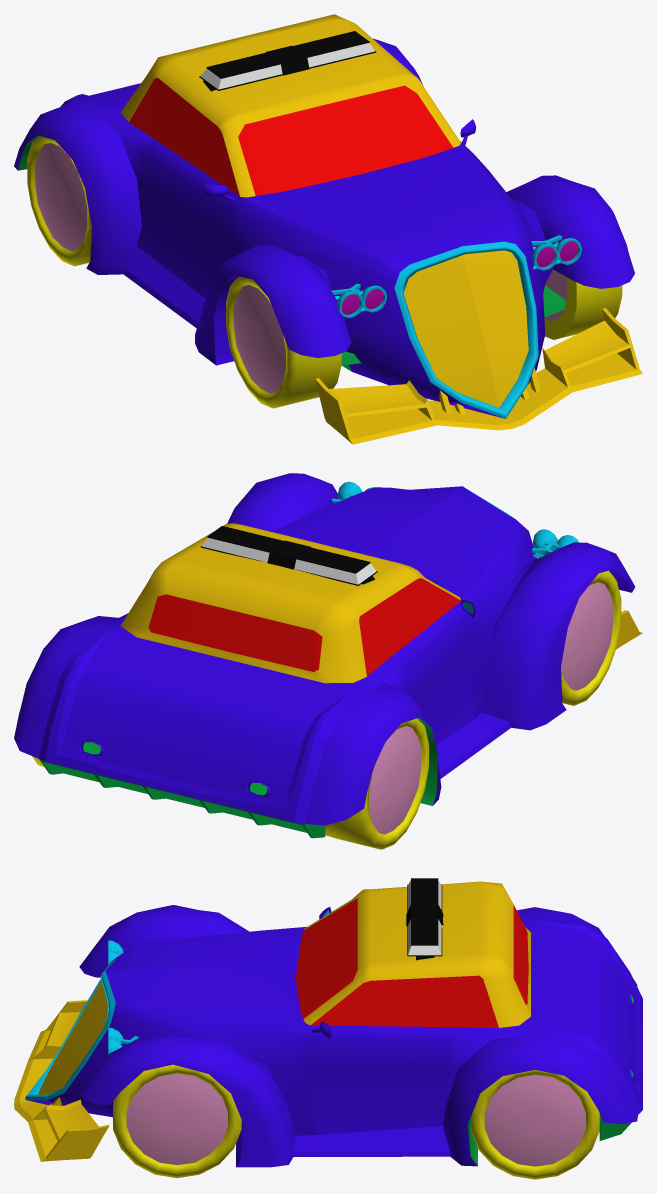
Rendered from 08_TierraRatRodPolice_ColorCoded.fbx.
3 renders of one model, top to bottom at view 1: azimuth 30°, elevation 25°; view 2: azimuth 150°, elevation 25°; view 3: azimuth 270°, elevation 25°, orthographic. The views are drawn at different scales.
Parts seen in each view (by area): view 1: Body, tireFrontR, tireBackR, police_light, tireFrontL; view 2: Body, tireBackR, tireFrontR, police_light; view 3: Body, tireFrontL, tireBackL, police_light.
Boxes of the visible parts, x1=… form: Body: x1=14, y1=14, x2=642, y2=444; tireFrontR: x1=226, y1=276, x2=341, y2=408; tireBackR: x1=27, y1=136, x2=91, y2=266; police_light: x1=199, y1=31, x2=376, y2=91; tireFrontL: x1=544, y1=269, x2=622, y2=339; Body: x1=14, y1=473, x2=642, y2=838; tireBackR: x1=325, y1=718, x2=429, y2=849; tireFrontR: x1=561, y1=570, x2=621, y2=705; police_light: x1=200, y1=526, x2=377, y2=585; Body: x1=14, y1=881, x2=642, y2=1167; tireFrontL: x1=113, y1=1064, x2=241, y2=1178; tireBackL: x1=471, y1=1070, x2=599, y2=1179; police_light: x1=406, y1=878, x2=443, y2=960.
Bounding box in the file's own units: 64.44 × 109 × 37.16.
